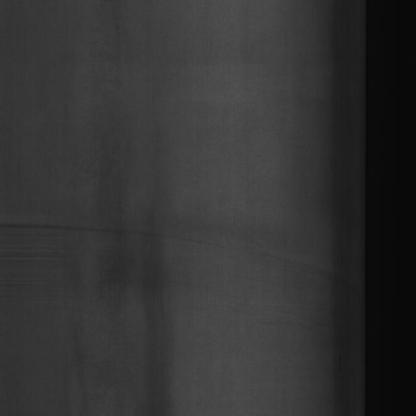crease: (7, 208, 166, 248)
